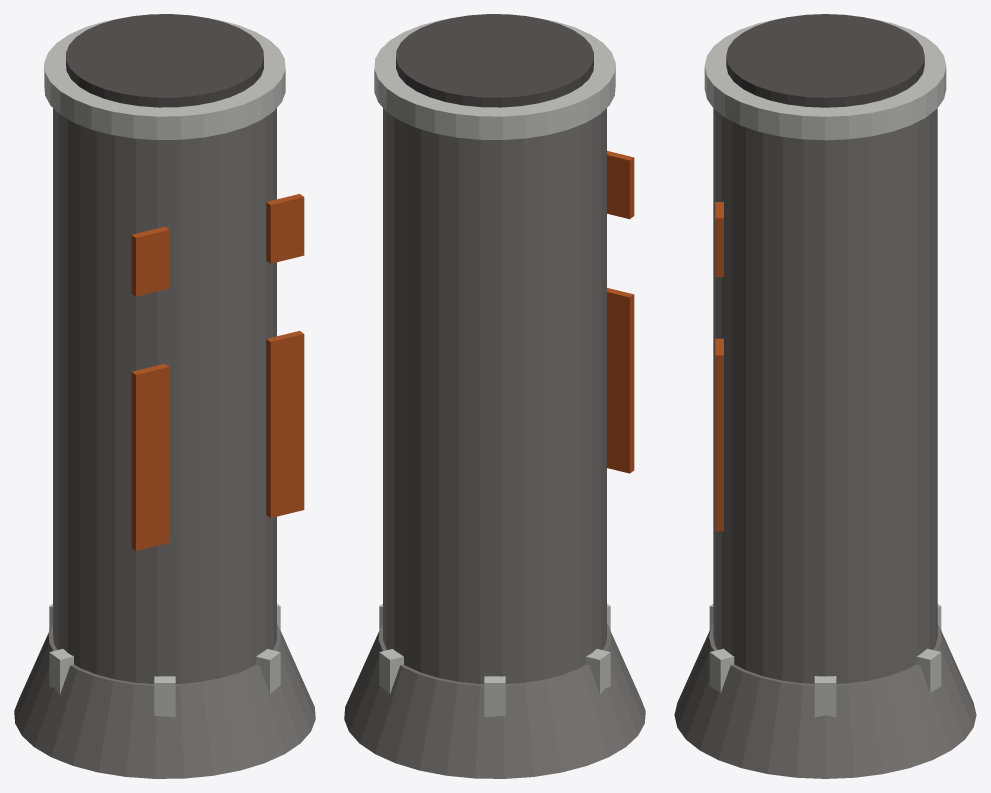
Rendered from cooling_tower_script.glb.
3 views of the same model, side by side, from view 1: azimuth 30°, elevation 25°; view 2: azimuth 150°, elevation 25°; view 3: azimuth 270°, elevation 25° (orthographic).
Parts seen in each view (by area): view 1: Cylinder, Cone, Cylinder.002, Cylinder.001, Cube, Cube.002, Cube.001, Cube.003, Cube.010, Cube.009, Cube.011; view 2: Cylinder, Cone, Cylinder.002, Cylinder.001, Cube, Cube.001, Cube.008, Cube.009, Cube.007; view 3: Cylinder, Cone, Cylinder.002, Cylinder.001, Cube.002, Cube.006, Cube.007, Cube.011, Cube.003.
Boxes of the visible parts, x1,y1,x2,y2 form: Cylinder: [53, 108, 276, 683]; Cone: [14, 624, 315, 778]; Cylinder.002: [66, 14, 263, 107]; Cylinder.001: [44, 17, 285, 139]; Cube: [131, 363, 169, 550]; Cube.002: [266, 331, 304, 517]; Cube.001: [131, 226, 169, 296]; Cube.003: [266, 194, 304, 263]; Cube.010: [154, 676, 175, 717]; Cube.009: [49, 649, 73, 694]; Cube.011: [256, 649, 280, 693]; Cylinder: [383, 108, 606, 683]; Cone: [344, 624, 645, 778]; Cylinder.002: [396, 14, 593, 107]; Cylinder.001: [374, 17, 615, 139]; Cube: [607, 288, 634, 473]; Cube.001: [607, 151, 634, 219]; Cube.008: [484, 676, 505, 717]; Cube.009: [586, 649, 610, 694]; Cube.007: [379, 649, 403, 693]; Cylinder: [713, 108, 937, 683]; Cone: [674, 625, 976, 778]; Cylinder.002: [726, 14, 924, 107]; Cylinder.001: [704, 18, 946, 140]; Cube.002: [715, 338, 723, 531]; Cube.006: [814, 676, 836, 717]; Cube.007: [916, 648, 941, 693]; Cube.011: [709, 648, 734, 693]; Cube.003: [715, 202, 723, 276].
Size of the model in its own units: 14 by 33.7 by 14.
